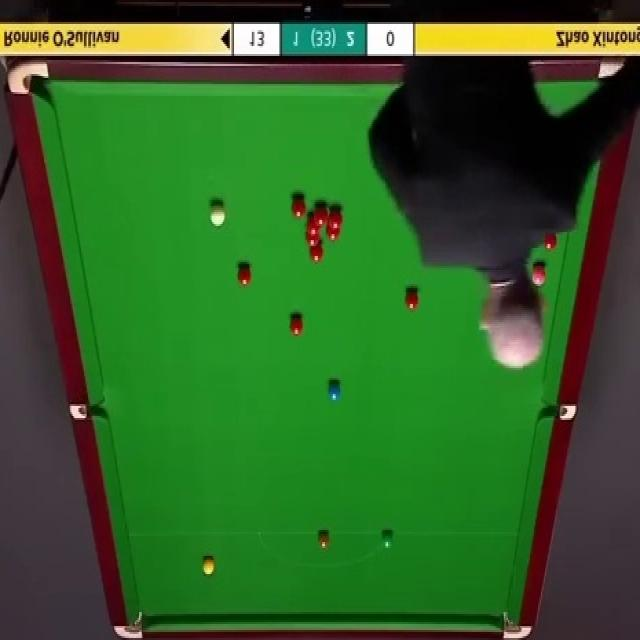blue-ball: (327, 382, 342, 403)
brown-ball: (317, 530, 330, 550)
green-ball: (382, 531, 394, 548)
pink-ball: (531, 262, 547, 288)
red-ball: (236, 261, 253, 288), (540, 226, 557, 250), (289, 196, 306, 220), (328, 205, 343, 230), (405, 288, 420, 312), (289, 314, 304, 336), (314, 205, 328, 227), (308, 246, 324, 263), (306, 216, 320, 234), (306, 232, 320, 248), (326, 227, 340, 240)
white-ball: (210, 203, 226, 227)
yellow-ball: (203, 554, 216, 575)
